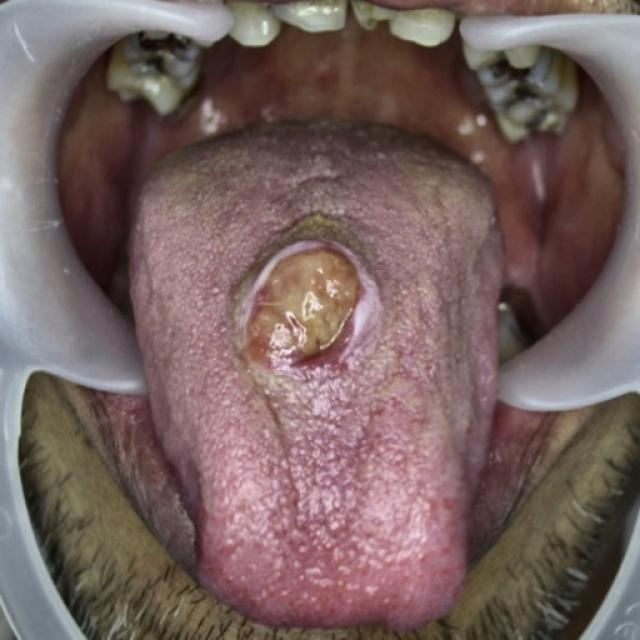cancer-detection: (235, 230, 401, 397)
processing_area: (137, 122, 493, 631)
